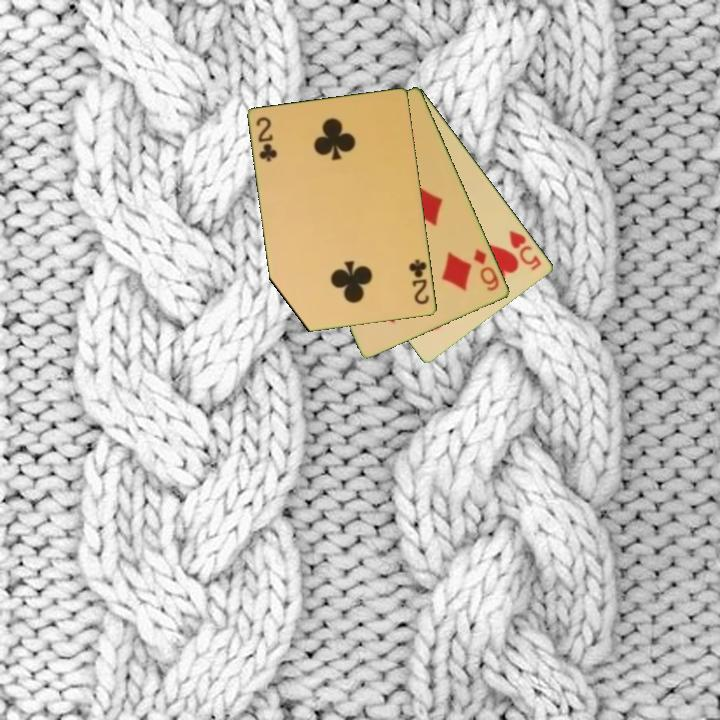2c: (406, 256, 432, 308), (253, 113, 279, 165)
5h: (506, 226, 544, 274)
6d: (470, 246, 502, 294)
